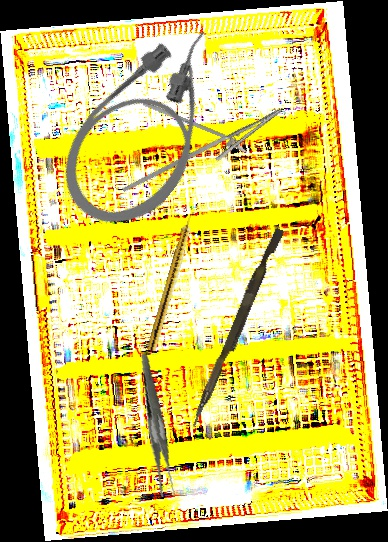Cannula: (40, 8, 261, 248)
Dressing Forceps: (120, 354, 196, 499)
Handpiece: (146, 209, 199, 353)
Needle Holder: (121, 89, 291, 222)
Pusher: (189, 225, 285, 432), (142, 101, 256, 151)
